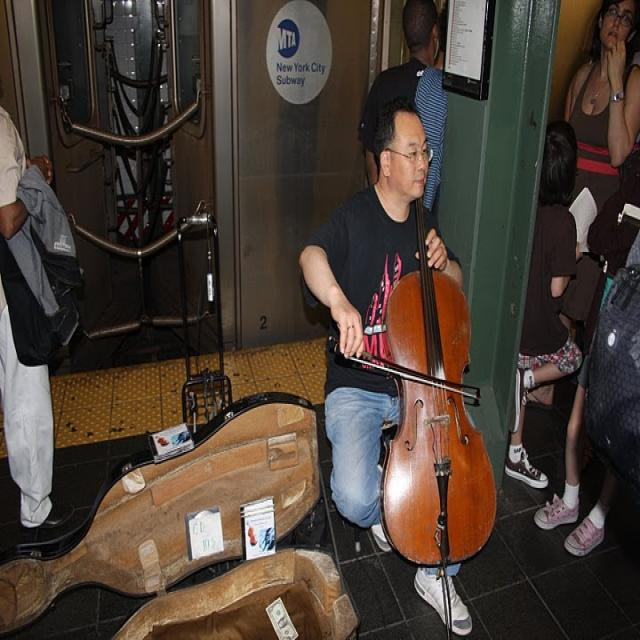cello: (377, 199, 497, 568)
